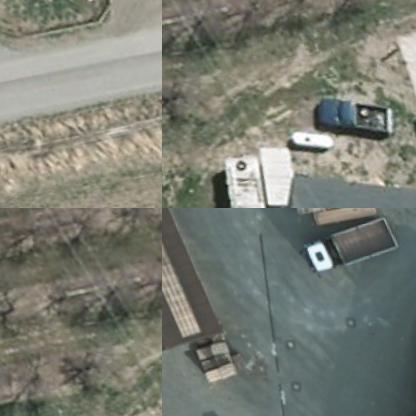camping car: (197, 143, 281, 207), (239, 137, 308, 207)
pickup: (301, 74, 399, 150)
